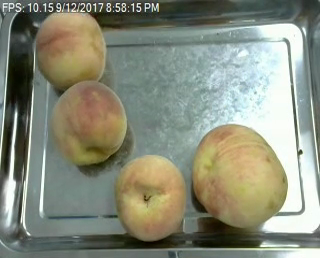Peach: (192, 121, 288, 231), (50, 80, 128, 166), (113, 155, 186, 242), (34, 8, 107, 89)
